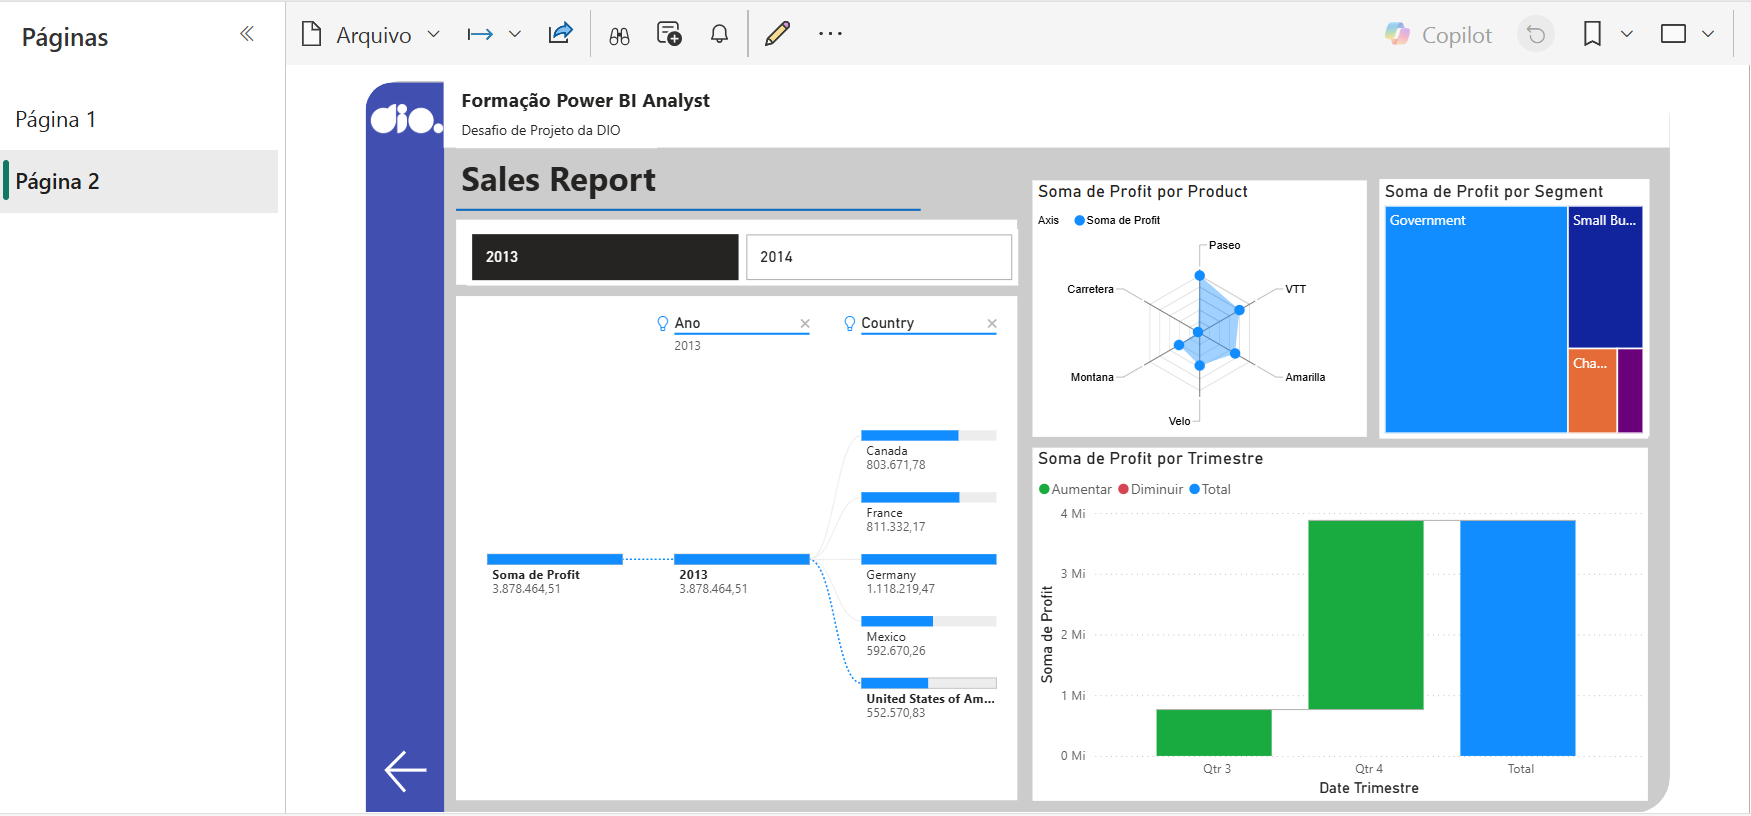

The page's visual inventory and layout, read from the dashboard file:
{"tool":"powerbi","page":{"name":"Página 2","canvas":[1280,720],"ordinal":1},"visuals":[{"type":"shape","box":[12.3,14.7,1255.6,705.3],"z":0},{"type":"shape","box":[12,16,76,704],"z":1000},{"type":"shape","box":[87.8,15.6,1180,64.4],"z":2000},{"type":"image","box":[12.2,24.4,80,55.6],"z":3000},{"type":"textbox","box":[100,15.6,283.3,36.7],"z":4000},{"type":"textbox","box":[100,48,193.3,32],"z":5000},{"type":"shape","box":[99.6,120.8,447.2,38.1],"z":6000},{"type":"textbox","box":[99.6,80.5,254.3,59.3],"z":7000},{"type":"shape","box":[100,222.7,540,485.3],"z":8000},{"type":"shape","box":[654.7,368,592,338.7],"z":9000},{"type":"shape","box":[987.5,110,260,247.5],"z":10000},{"type":"shape","box":[654.7,110.7,321.3,246.7],"z":11000},{"type":"shape","box":[100,149.3,540,62.7],"z":12000},{"type":"waterfallChart","fields":{"Y":["Sum(financials.Profit)"],"Category":["financials.Date.Variation.Hierarquia de datas.Trimestre"]},"box":[654.7,368,592,340],"z":13000},{"type":"decompositionTreeVisual","fields":{"Analyze":["Sum(financials.Profit)"],"ExplainBy":["financials.Date.Variation.Hierarquia de datas.Ano","financials.Country"]},"box":[100,222.7,540,484],"z":14000},{"type":"advancedSlicerVisual","fields":{"Values":["financials.Date.Variation.Hierarquia de datas.Ano"]},"box":[109.3,157.3,530.7,54.7],"z":15000},{"type":"actionButton","box":[25.3,654.7,62.7,52],"z":16000},{"type":"RadarChart1446119667547","fields":{"Y":["Sum(financials.Profit)"],"Category":["financials.Product"]},"box":[654.7,110.7,321.3,246.7],"z":17000},{"type":"treemap","fields":{"Values":["Sum(financials.Profit)"],"Group":["financials.Segment"]},"box":[988,110.7,258.7,248],"z":18000}]}

Visuals, with their boxes on the page's 1280x720 design canvas (x1, y1, x2, y2). These are canvas units, not pixel positions in the 1751x816 screenshot, which may show the page scaled, cropped or inside an application window:
shape: x1=12, y1=15, x2=1268, y2=720
shape: x1=12, y1=16, x2=88, y2=720
shape: x1=88, y1=16, x2=1268, y2=80
image: x1=12, y1=24, x2=92, y2=80
textbox: x1=100, y1=16, x2=383, y2=52
textbox: x1=100, y1=48, x2=293, y2=80
shape: x1=100, y1=121, x2=547, y2=159
textbox: x1=100, y1=80, x2=354, y2=140
shape: x1=100, y1=223, x2=640, y2=708
shape: x1=655, y1=368, x2=1247, y2=707
shape: x1=988, y1=110, x2=1248, y2=358
shape: x1=655, y1=111, x2=976, y2=357
shape: x1=100, y1=149, x2=640, y2=212
waterfallChart - Sum(financials.Profit) x financials.Date.Variation.Hierarquia de datas.Trimestre: x1=655, y1=368, x2=1247, y2=708
decompositionTreeVisual - Sum(financials.Profit) x financials.Date.Variation.Hierarquia de datas.Ano: x1=100, y1=223, x2=640, y2=707
advancedSlicerVisual - financials.Date.Variation.Hierarquia de datas.Ano: x1=109, y1=157, x2=640, y2=212
actionButton: x1=25, y1=655, x2=88, y2=707
RadarChart1446119667547 - Sum(financials.Profit) x financials.Product: x1=655, y1=111, x2=976, y2=357
treemap - Sum(financials.Profit) x financials.Segment: x1=988, y1=111, x2=1247, y2=359
